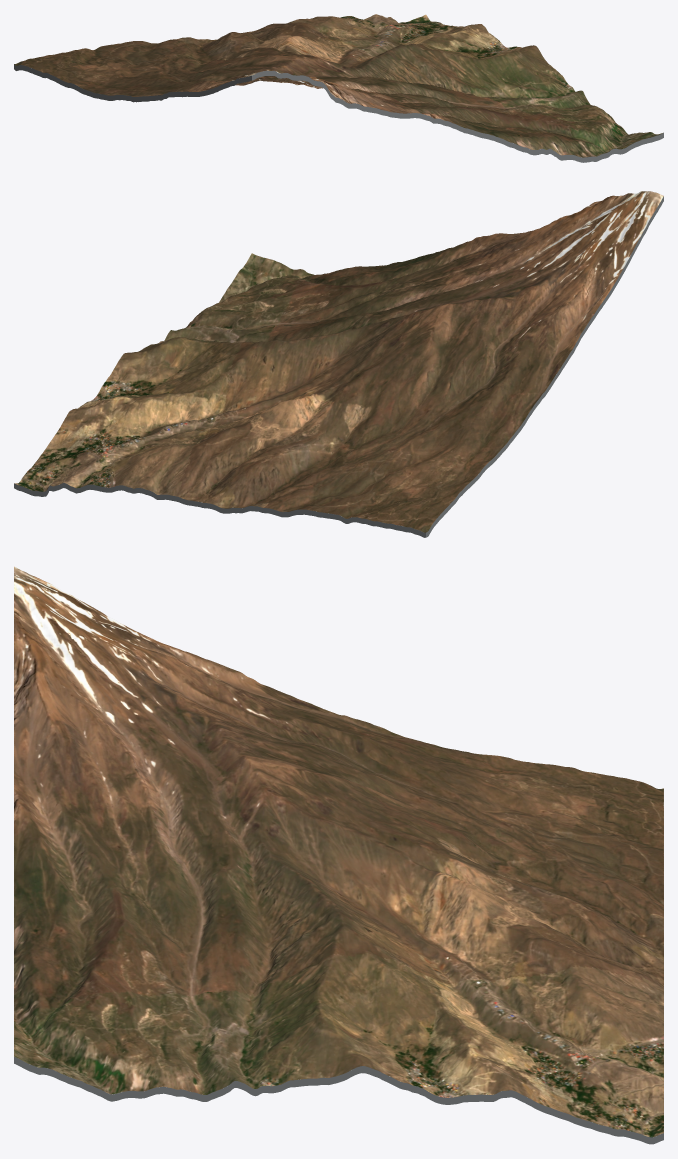
The picture shows the model from 3 angles, top to bottom: view 1: azimuth 30°, elevation 25°; view 2: azimuth 150°, elevation 25°; view 3: azimuth 270°, elevation 25°; orthographic projection. The views are drawn at different scales.
Visible parts, largest first — view 1: terrain, skirt; view 2: terrain, skirt; view 3: terrain, skirt.
Part boxes in pixels (x1,y1,x2,y2): terrain: (14,14,663,157); skirt: (14,64,663,162); terrain: (15,191,663,532); skirt: (14,196,663,537); terrain: (14,566,663,1137); skirt: (14,1056,663,1144).
Size of the model in its own units: 7500 by 3887 by 7500.
Materials: 1 (1 with a texture image).
